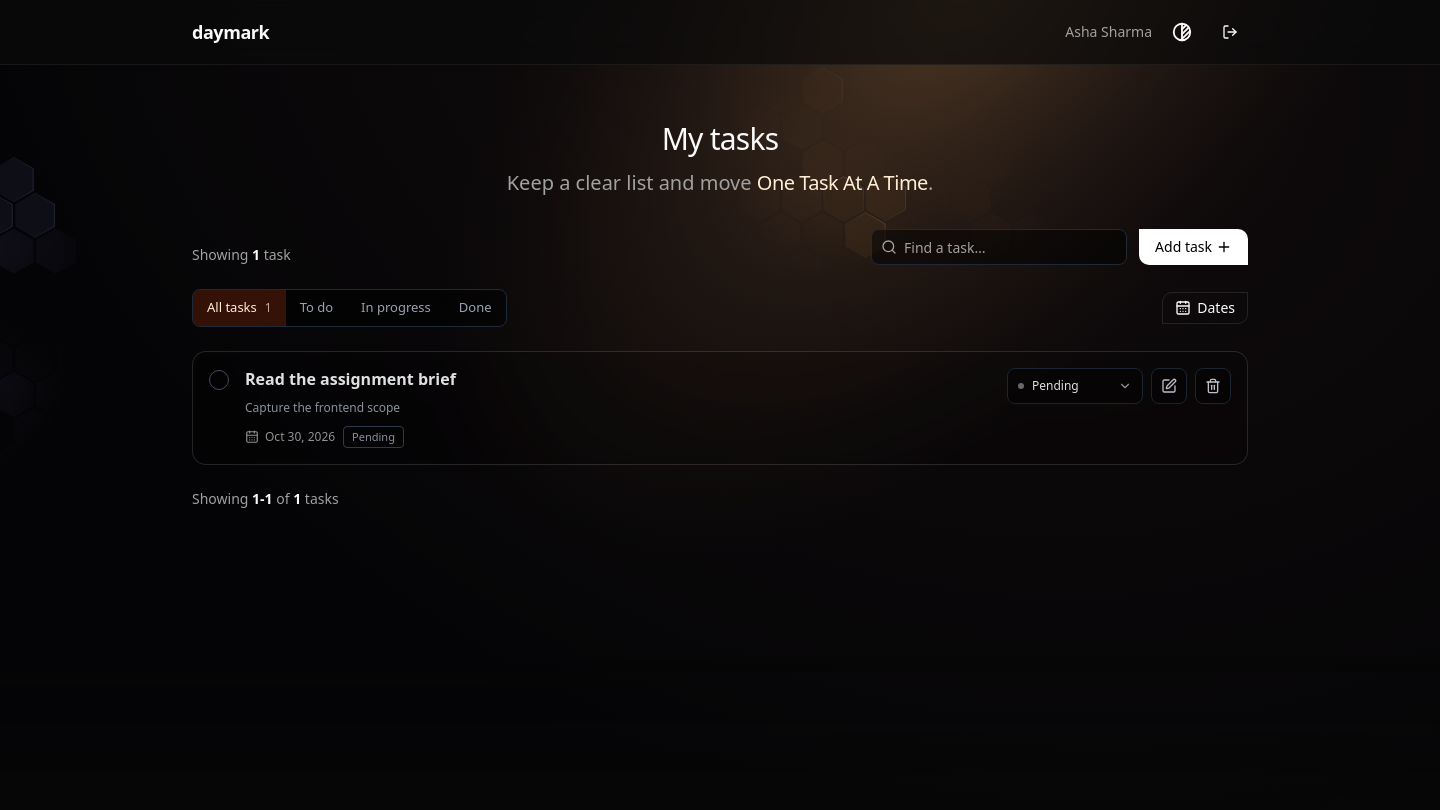
Scenario: task dashboard › loads owned tasks and writes status filters into the URL
Expected: the heading "Read the assignment brief" is shown, [245, 368, 456, 390]
Click the tab "To do": click(316, 308) [286, 290, 347, 326]
(page scrolled)
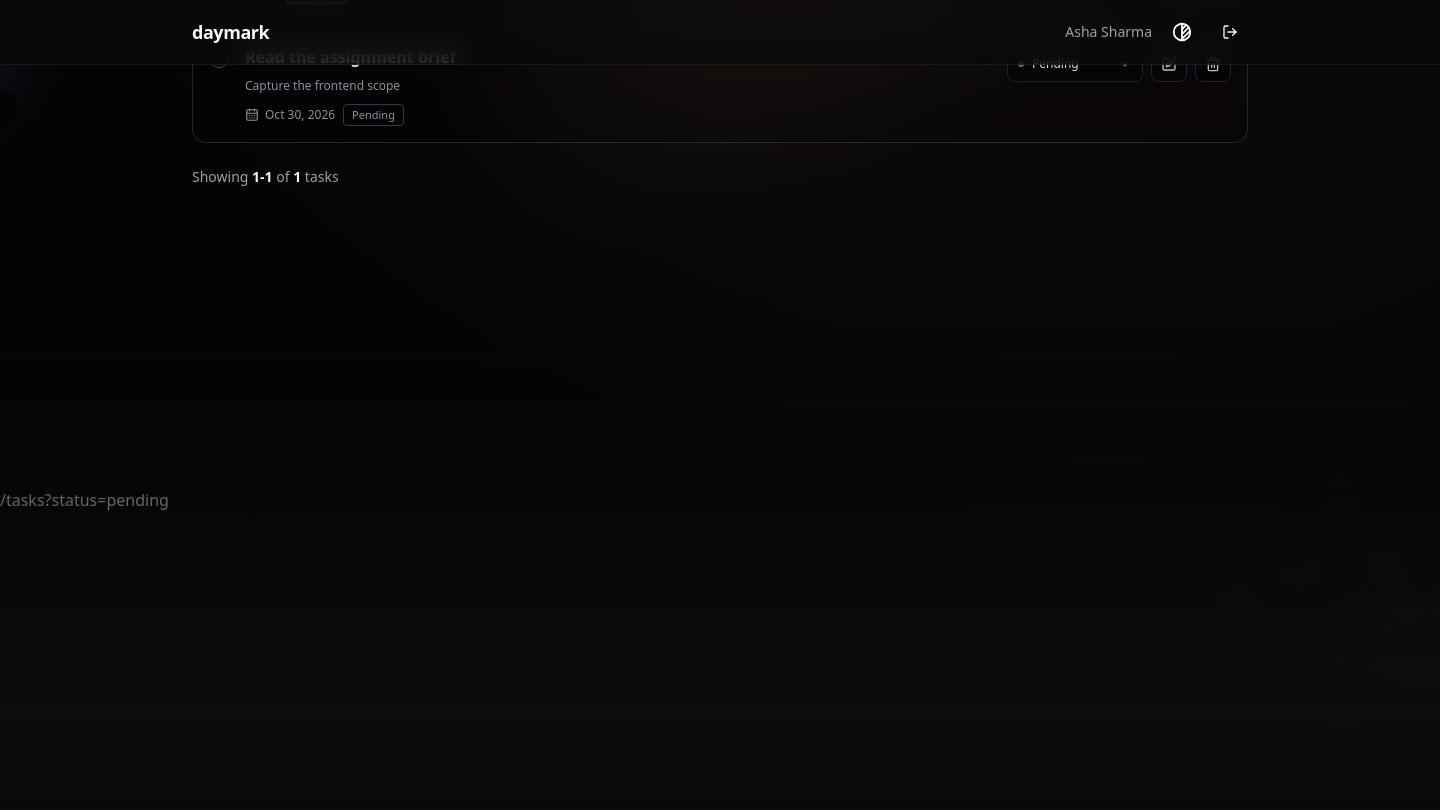
Expected: the text named "Current URL" shows "status=pending", [45, 489, 169, 511]
